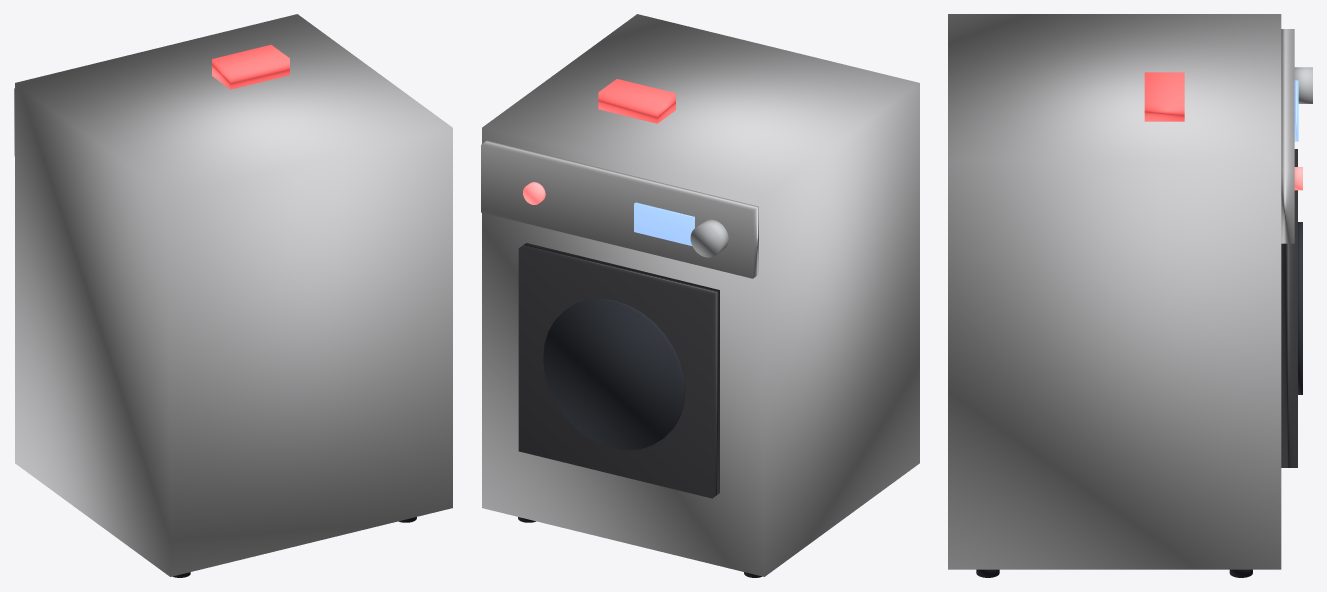
Rendered from dryer.glb.
The picture shows the model from 3 angles, left to right: view 1: azimuth 30°, elevation 25°; view 2: azimuth 150°, elevation 25°; view 3: azimuth 270°, elevation 25°; orthographic projection. The views are drawn at different scales.
Visible parts, largest first — view 1: chassis, lint; view 2: chassis, door, panel, window, lint, display, knob; view 3: chassis, door, panel, lint, window, knob.
Part boxes in pixels (x1,y1,x2,y2): chassis: [15, 14, 452, 576]; lint: [212, 45, 289, 89]; chassis: [482, 14, 919, 576]; door: [518, 243, 719, 498]; panel: [481, 140, 758, 278]; window: [543, 298, 685, 450]; lint: [598, 79, 675, 123]; display: [634, 202, 694, 245]; knob: [690, 219, 728, 257]; chassis: [948, 14, 1281, 569]; door: [1281, 149, 1297, 467]; panel: [1281, 29, 1294, 243]; lint: [1144, 72, 1184, 121]; window: [1298, 222, 1302, 394]; knob: [1294, 67, 1312, 103].
Size of what is drawn, in the model's own units: 1.05 by 1.48 by 1.1.
